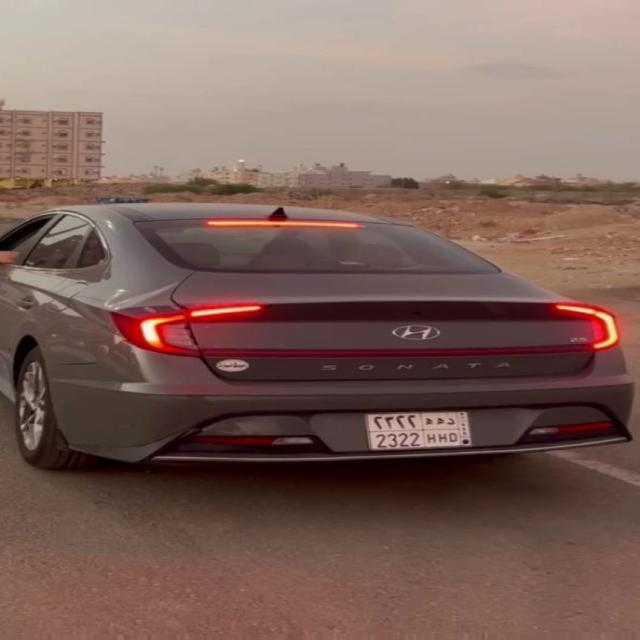Car-plate: (358, 403, 486, 455)
